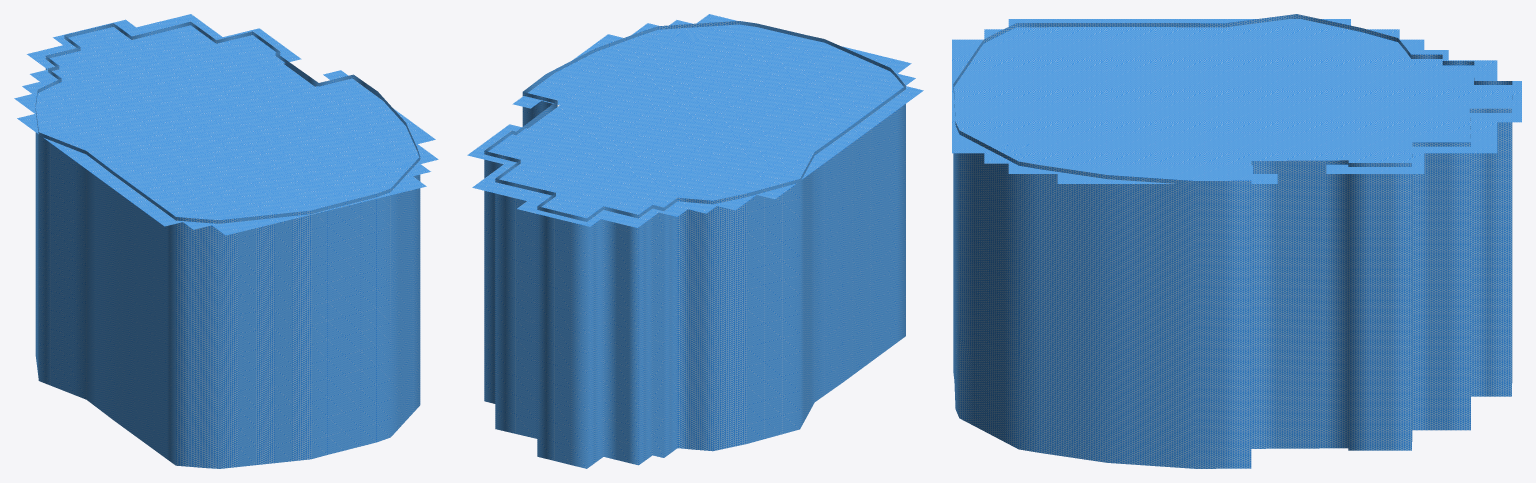
File: Swamp_campaign3_Colliders.fbx
3 views of the same model, side by side, from view 1: azimuth 30°, elevation 25°; view 2: azimuth 150°, elevation 25°; view 3: azimuth 270°, elevation 25° (orthographic). The views are drawn at different scales.
Visible parts, largest first — view 1: Swamp_campaign3_Visual_Coll; view 2: Swamp_campaign3_Visual_Coll; view 3: Swamp_campaign3_Visual_Coll.
Boxes of the visible parts, x1=… form: Swamp_campaign3_Visual_Coll: x1=14, y1=14, x2=438, y2=468; Swamp_campaign3_Visual_Coll: x1=467, y1=14, x2=923, y2=468; Swamp_campaign3_Visual_Coll: x1=952, y1=14, x2=1521, y2=468.
Size of what is drawn, in the model's own units: 80.93 by 65.01 by 117.
